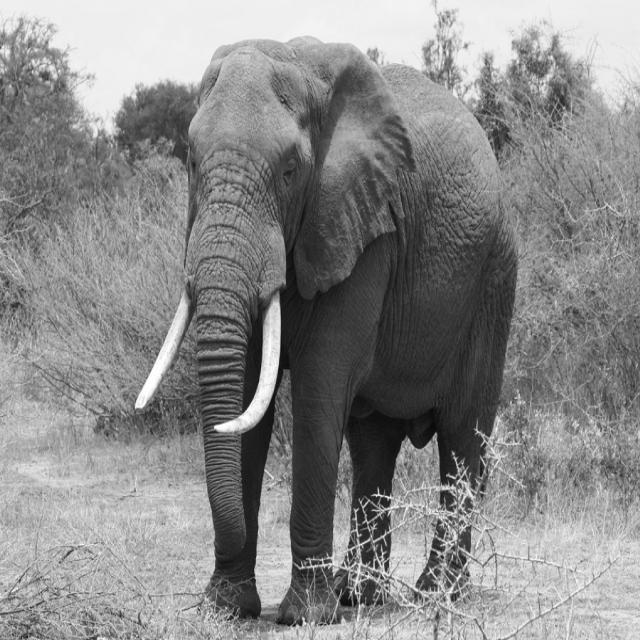Elephant: (134, 34, 518, 625)
